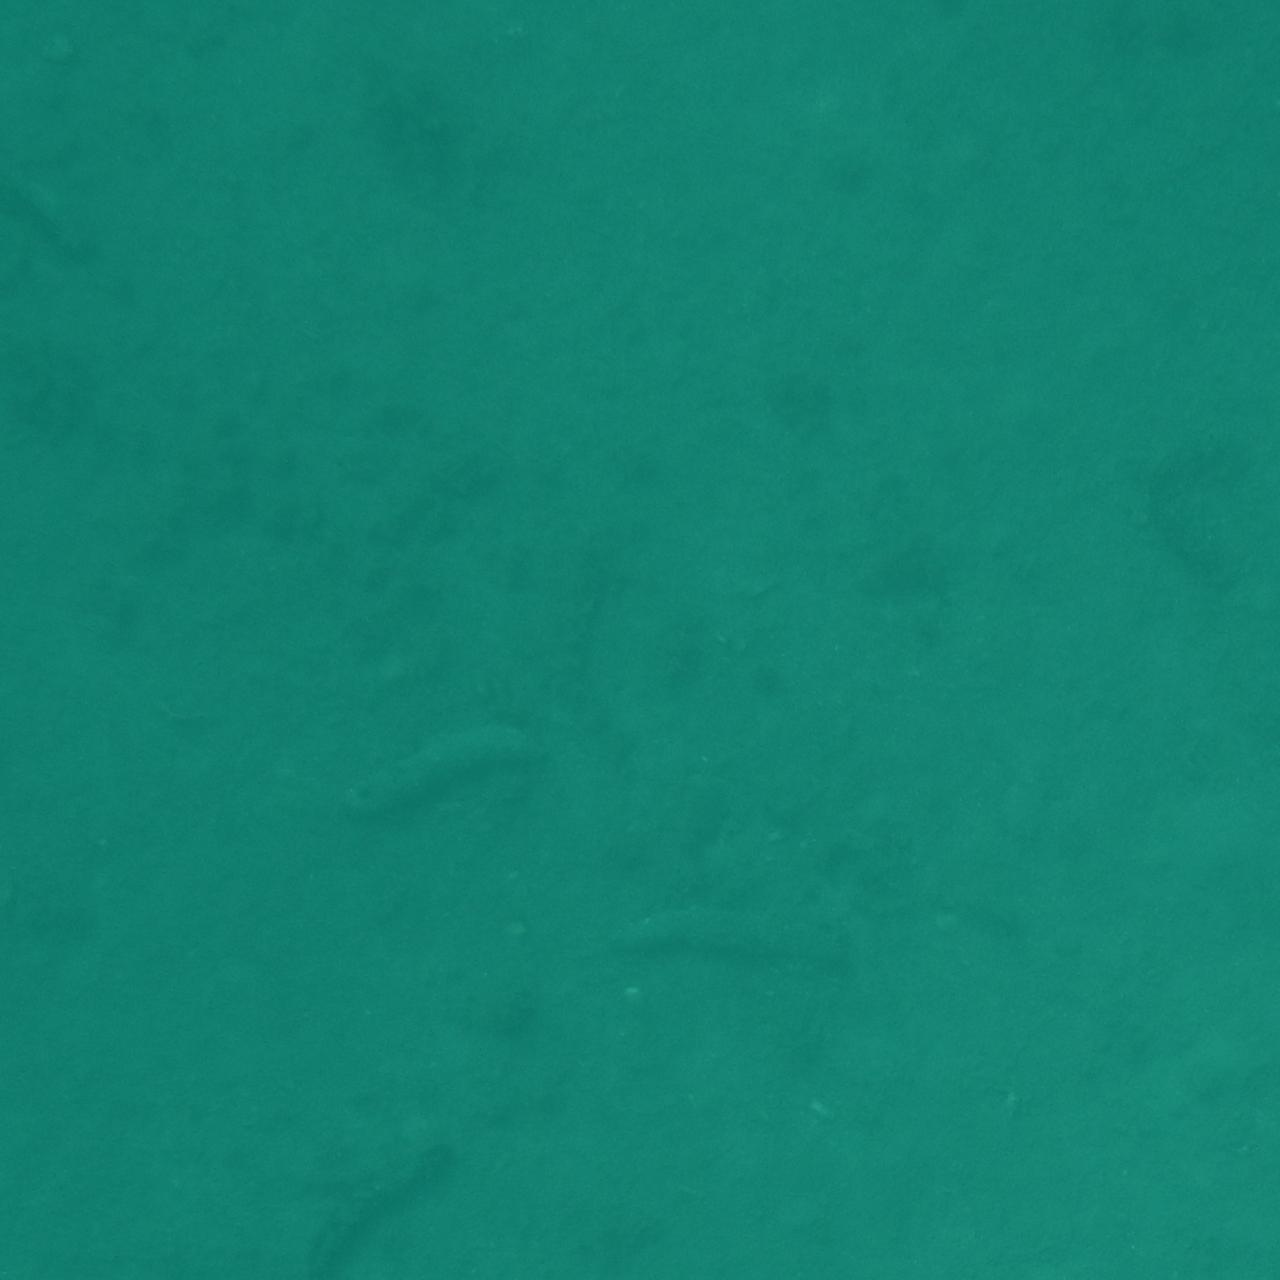Holothuria tubulosa: (299, 694, 581, 847), (297, 1103, 508, 1280), (1095, 415, 1260, 617), (602, 891, 919, 990), (0, 105, 139, 316), (1164, 0, 1280, 127), (0, 0, 129, 98), (1182, 0, 1280, 95), (62, 1205, 184, 1280)
